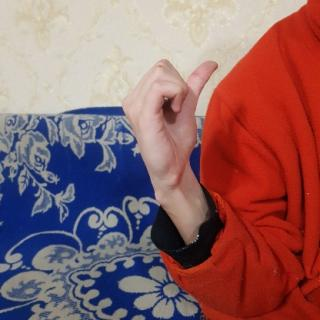WAW: (114, 57, 225, 203)
